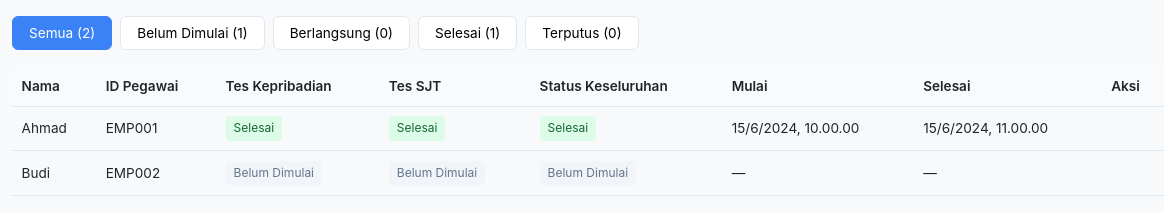
Test: CandidateProgressTable › filters candidates by status
The width and height of the screenshot is (1164, 213).
Check: the text "Ahmad" is shown, box [12, 106, 96, 151]
Check: the text "Budi" is shown, box [12, 151, 96, 195]
Click "Selesai" filter
What coordinates should you click on to do the following:
click the tab "Selesai (1)"
I would click on:
 (468, 33)
Its box is [418, 16, 517, 50].
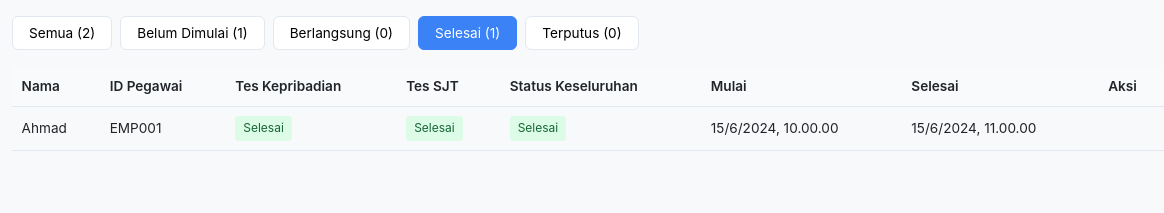
Check: the text "Ahmad" is shown, box [12, 106, 100, 151]
Check: the text "Budi" is gone
